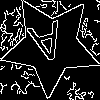A: (25, 20, 69, 73)
